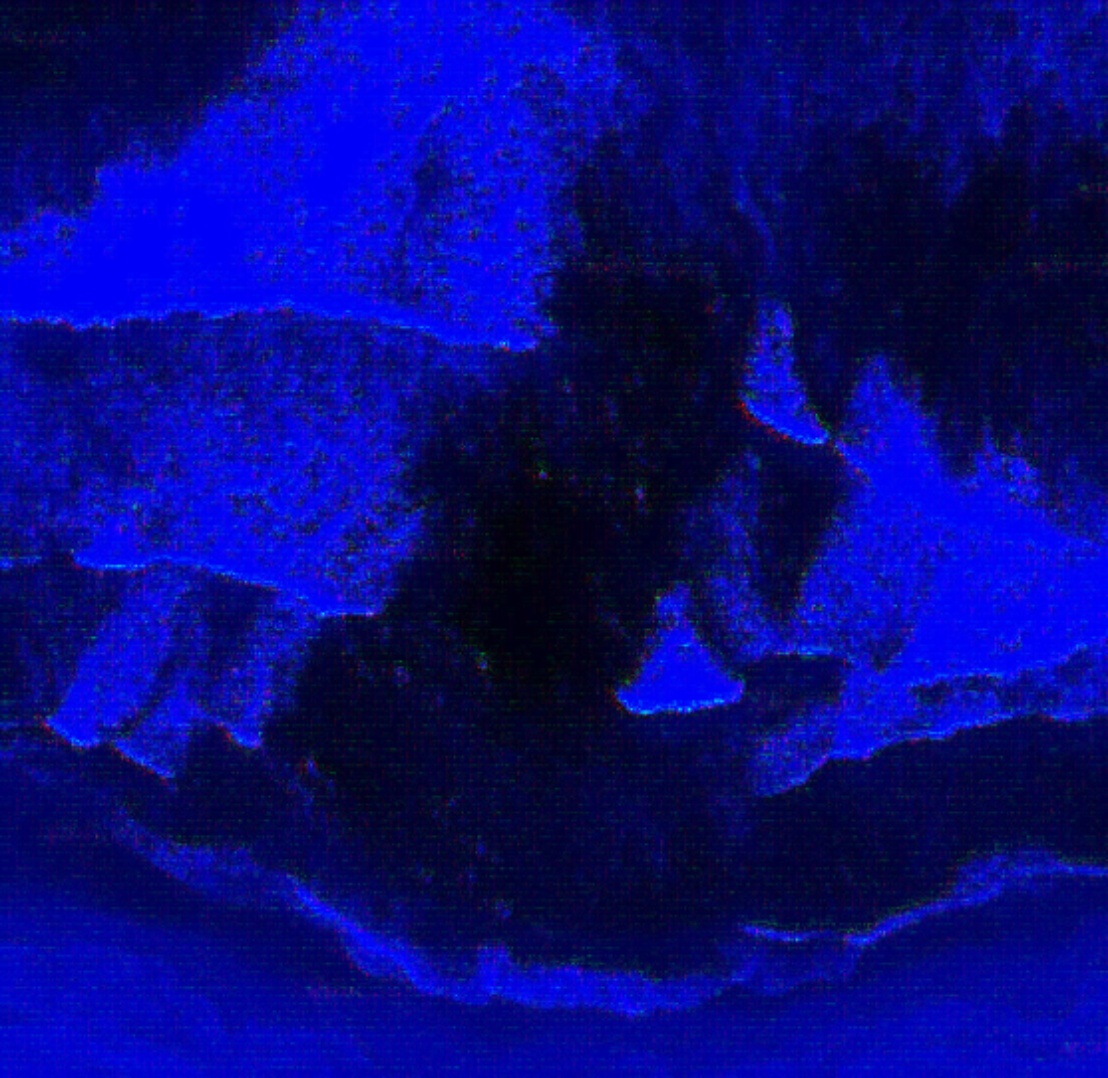rip_current: (358, 118, 825, 763)
